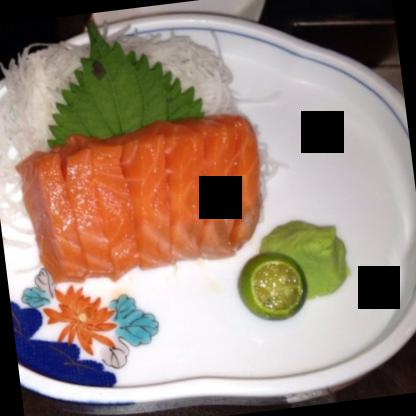salmon: (14, 106, 263, 286)
